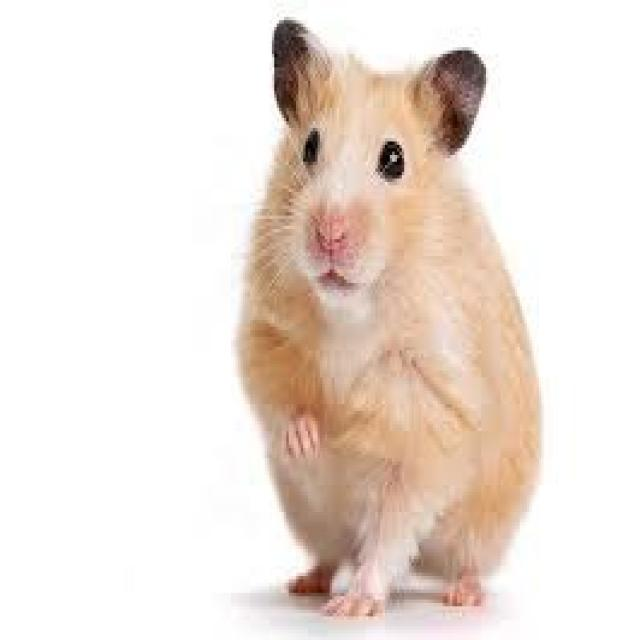hamster: (224, 75, 596, 601)
